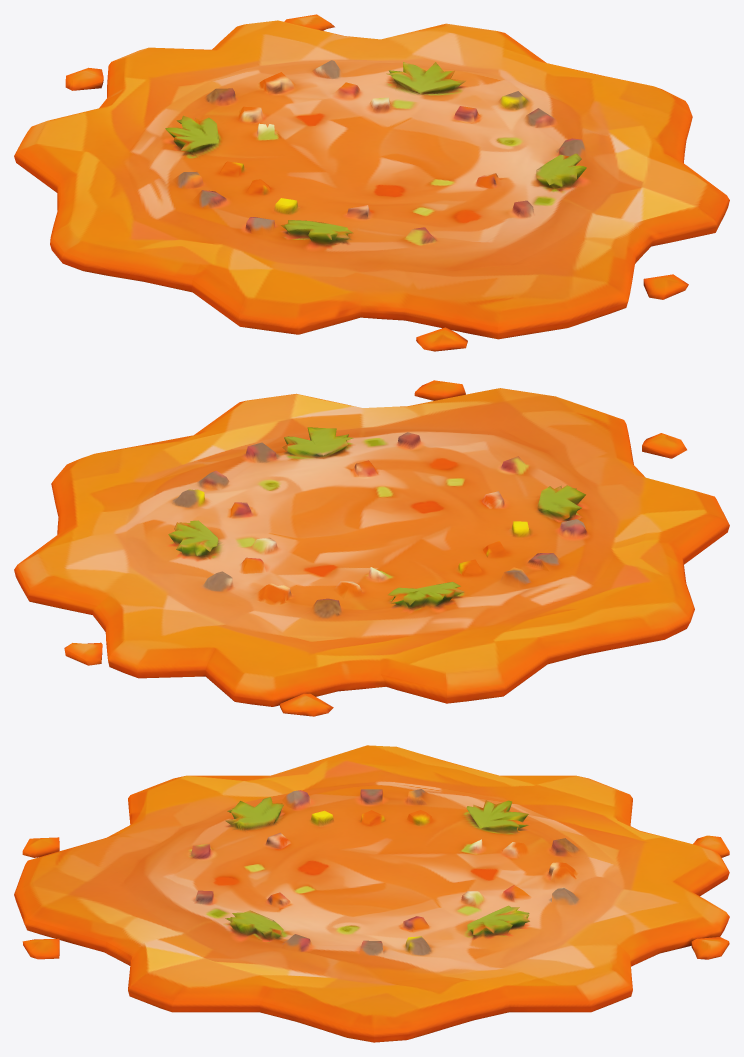
Rendered from base_basic_shaded.fbx.
The picture shows the model from 3 angles, top to bottom: view 1: azimuth 30°, elevation 25°; view 2: azimuth 150°, elevation 25°; view 3: azimuth 270°, elevation 25°; orthographic projection. The views are drawn at different scales.
Visible parts, largest first — view 1: model; view 2: model; view 3: model.
Boxes of the visible parts, box(x1,y1,x2,y2) form: model: box(14, 14, 729, 351); model: box(14, 380, 729, 716); model: box(14, 745, 729, 1042).
Bounding box in the file's own units: 180 × 12.82 × 190.
